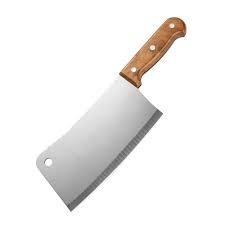Knife: (35, 16, 187, 211)
